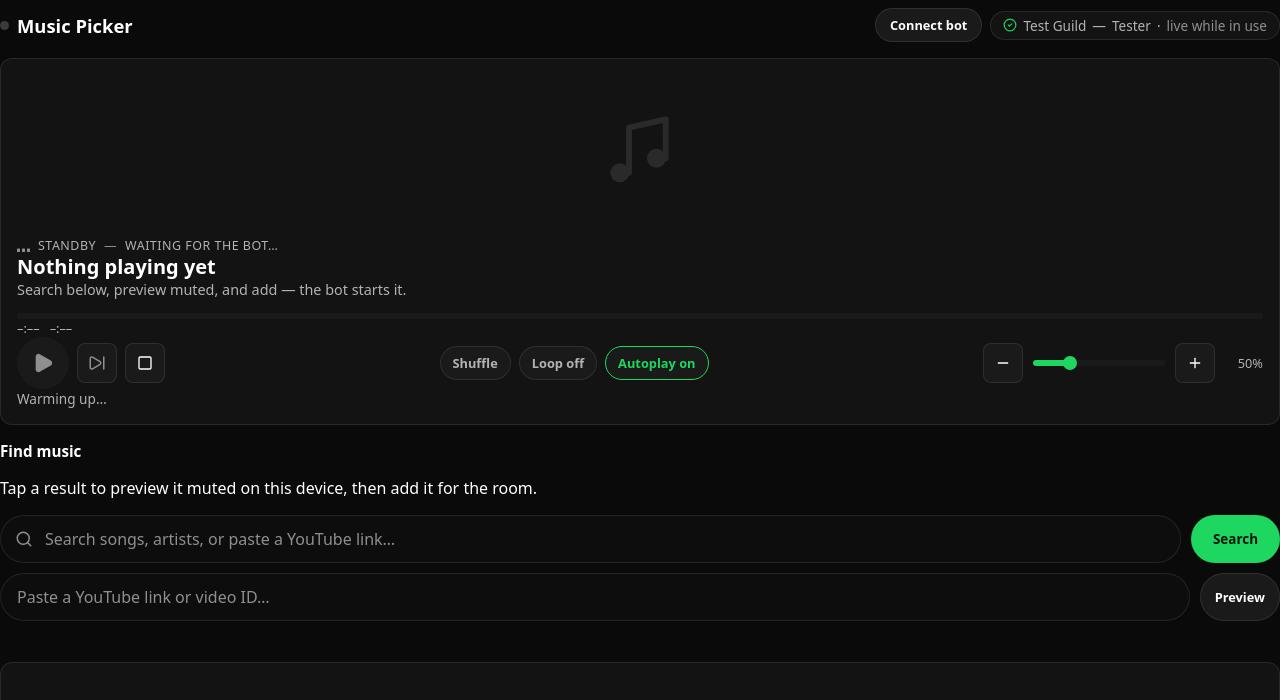
search + audition (Checkpoint 4) › a failed search offers Try again, which re-runs the last query
Type "test song" into the dropdown named "Search YouTube". click: (590,539)
box: [0,515,1181,563]
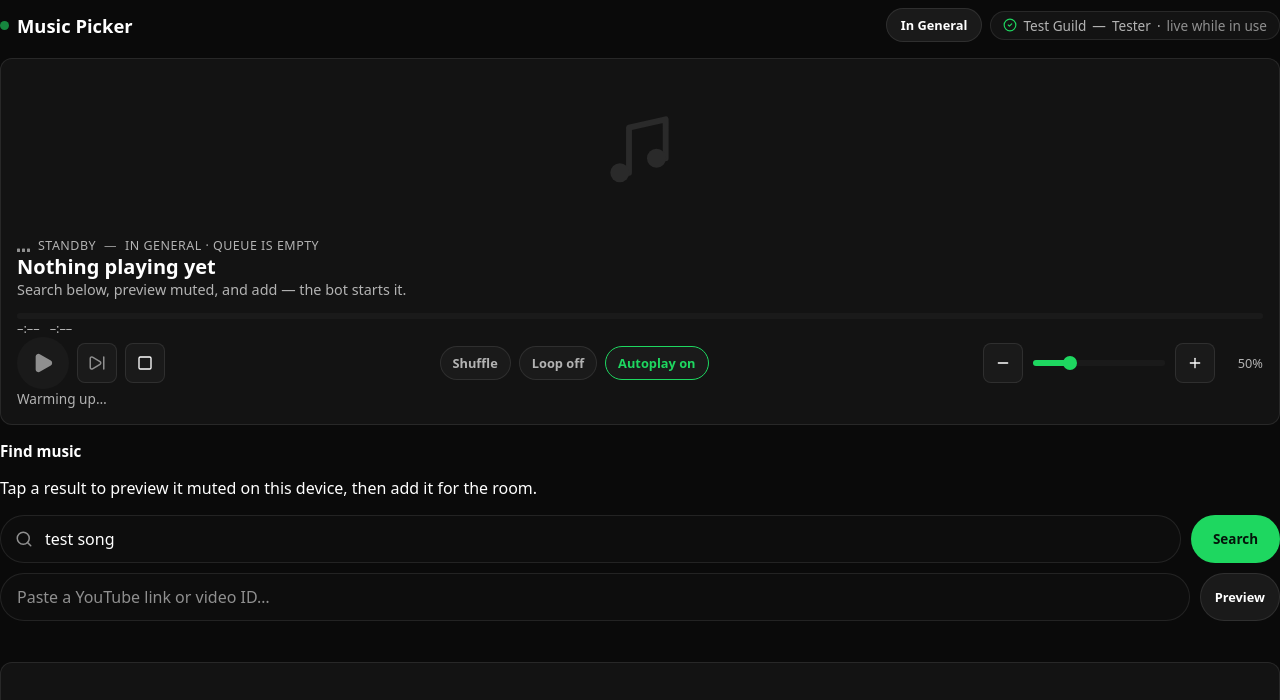
Click the button "Search". click: (1236,539)
box: [1191,515,1279,563]
(page scrolled)
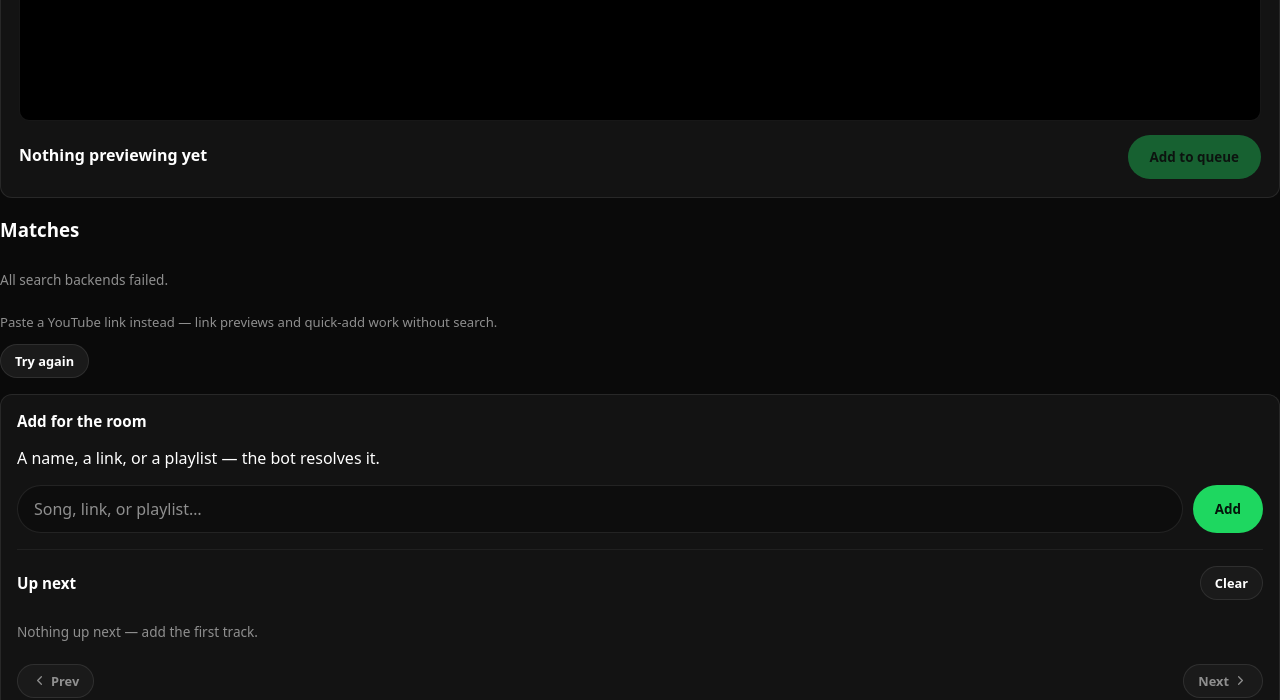
Expected: the text "All search backends failed." is shown, [0,270,168,290]
Click the button "Try again". click: (45,361)
box: [0,344,89,378]
(page scrolled)
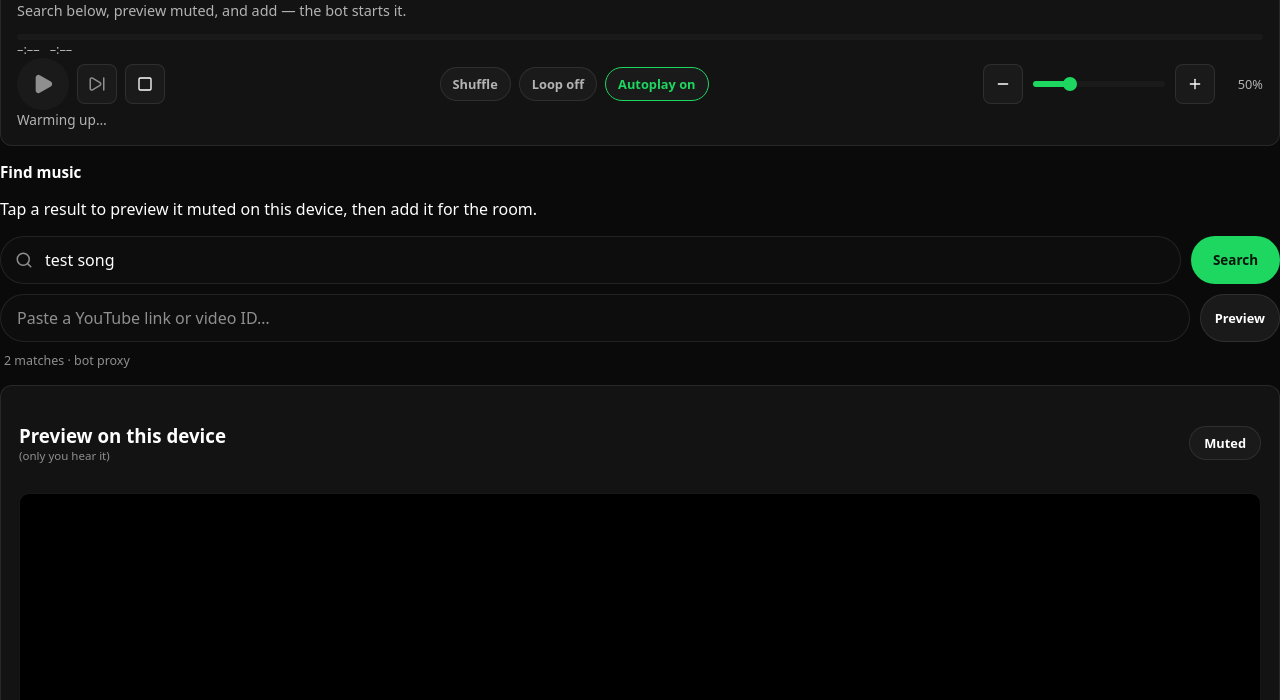
Expected: the text "2 matches · bot proxy" is shown, [4,352,130,369]
